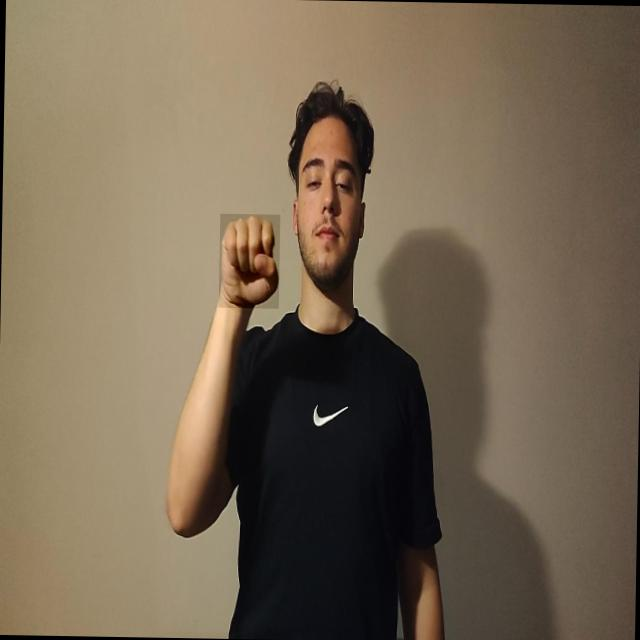yes: (218, 214, 280, 308)
